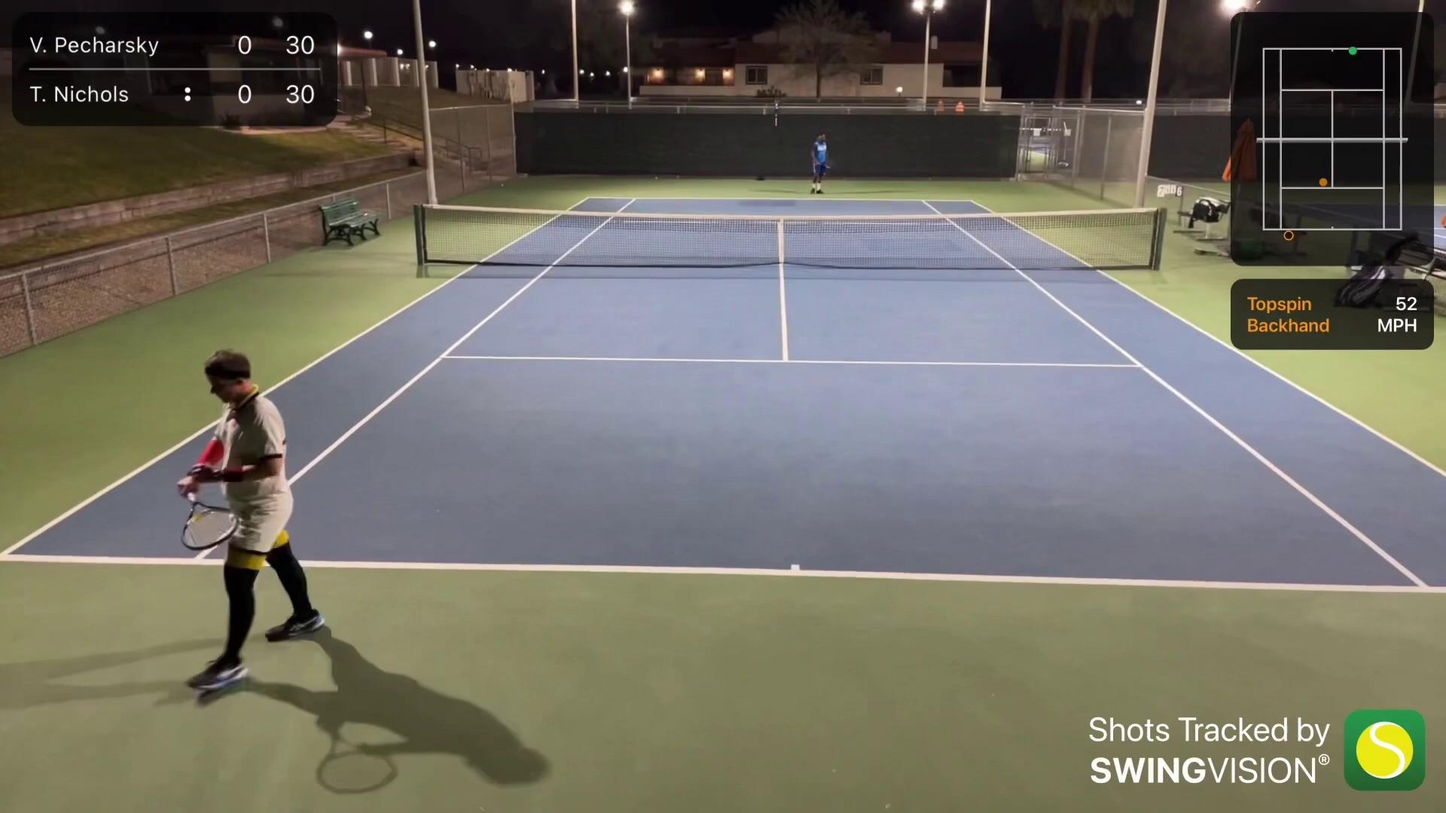ball: (654, 176, 660, 181), (499, 183, 505, 187)
